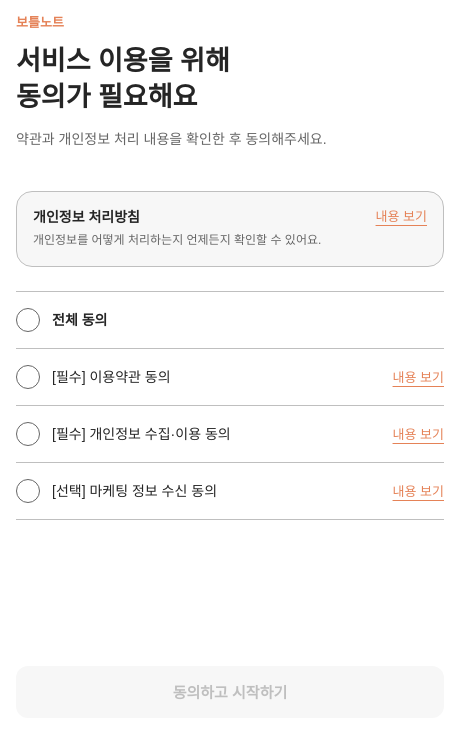
Test: AgreementScreen › 전체 동의는 모든 항목을 함께 선택하고 해제한다
Check: the checkbox labelled "[필수] 이용약관 동의" is enabled, box [16,365,171,389]
Click the checkbox labelled "전체 동의" at (62, 320), box [16,308,107,332]
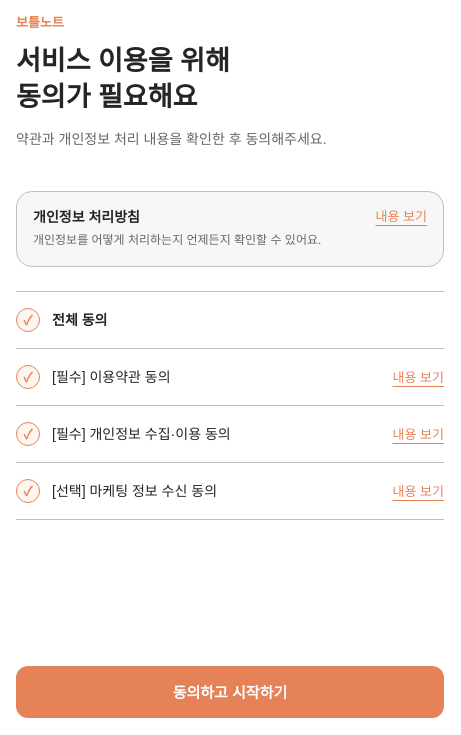
Check: the checkbox labelled "전체 동의" is checked
Check: the checkbox labelled "✓ [필수] 이용약관 동의" is checked, box [16,365,171,389]
Check: the checkbox labelled "✓ [필수] 개인정보 수집·이용 동의" is checked, box [16,422,231,446]
Click the checkbox labelled "전체 동의" at (62, 320), box [16,308,107,332]
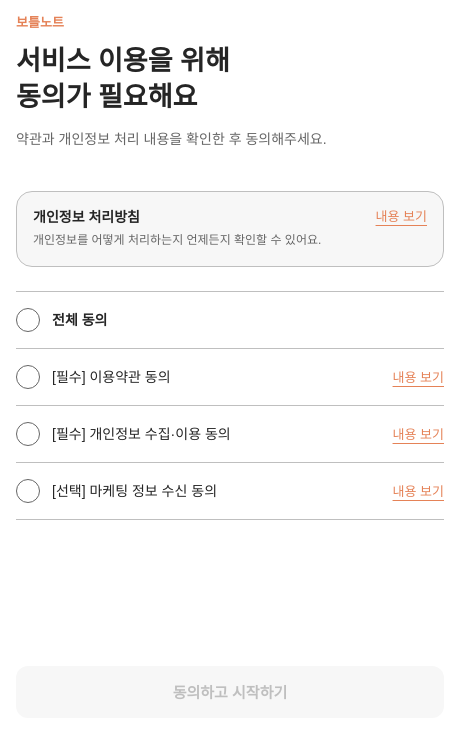
Check: the checkbox labelled "전체 동의" is not checked, box [16,308,107,332]
Check: the checkbox labelled "[필수] 이용약관 동의" is not checked, box [16,365,171,389]
Check: the button "동의하고 시작하기" is disabled, box [16,666,444,718]
